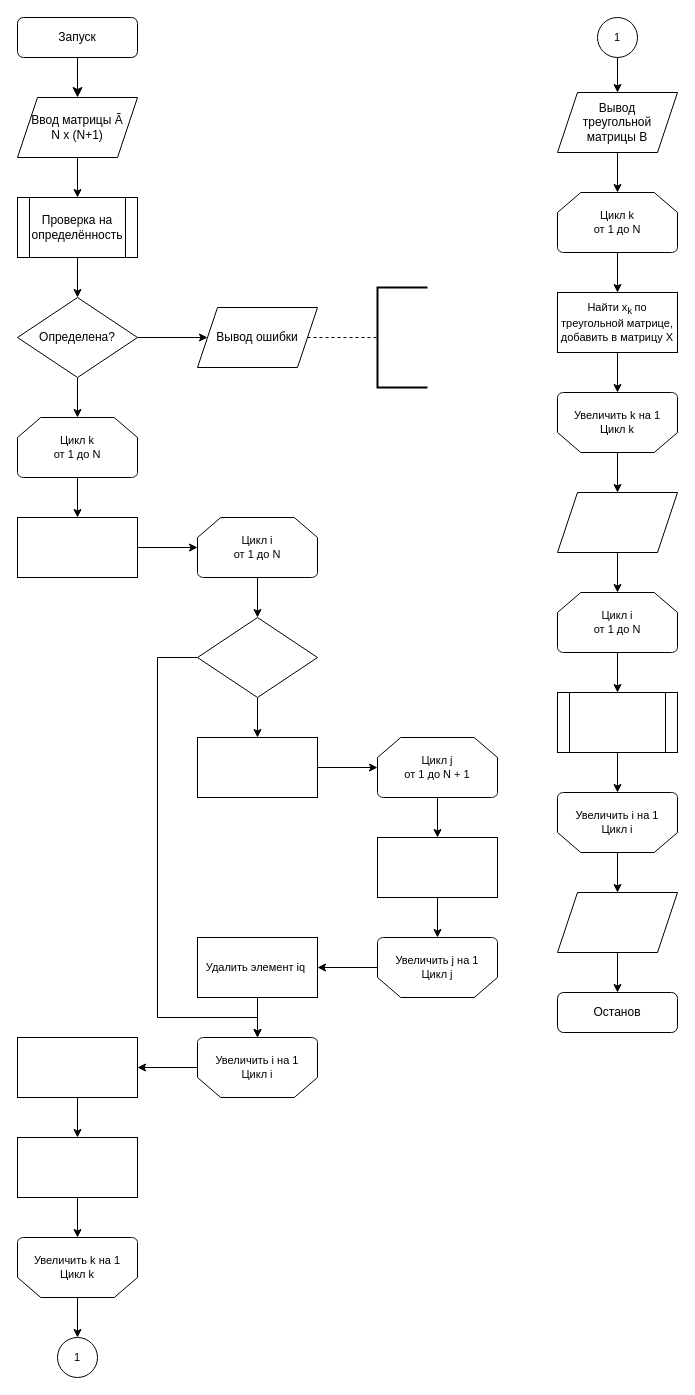
Some shapes in this 695 by 1395 pixel diagram are drawn without their labels. Here are the shapes that lost their labels. From the top down, the centre of each, then its label:
At [402,337]: "СЛАУ неопределена".
At [617,522]: "Вывод решения".
At [77,547]: "Найти pivot-элемент a pq".
At [257,657]: "i равно p?".
At [617,722]: "Рассчитать невязку r i".
At [257,767]: "m i = –a iq / a pq".
At [437,867]: "a ij += a pj * m i".
At [617,922]: "Вывод невязок".
At [77,1067]: "Сохранить строку p в отдельную матрицу B с добавленными нулям".
At [77,1167]: "Удалить из A строку p".
